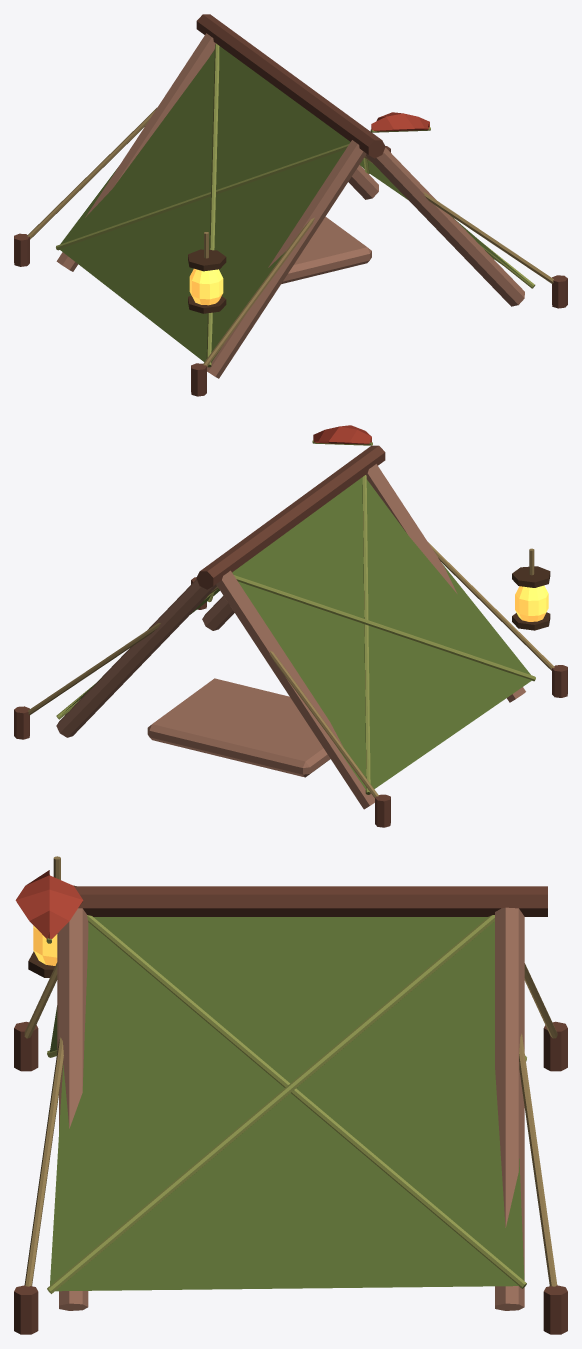
The model's file is watch-bivouac.glb.
The picture shows the model from 3 angles, top to bottom: view 1: azimuth 30°, elevation 25°; view 2: azimuth 150°, elevation 25°; view 3: azimuth 270°, elevation 25°; orthographic projection. The views are drawn at different scales.
Visible parts, largest first — view 1: watch-bivouac; view 2: watch-bivouac; view 3: watch-bivouac.
Boxes of the visible parts, x1=… form: watch-bivouac: x1=14, y1=14, x2=567, y2=396; watch-bivouac: x1=14, y1=425, x2=567, y2=827; watch-bivouac: x1=14, y1=856, x2=567, y2=1334.
Size of the model in its own units: 4.15 by 2.4 by 3.56.
